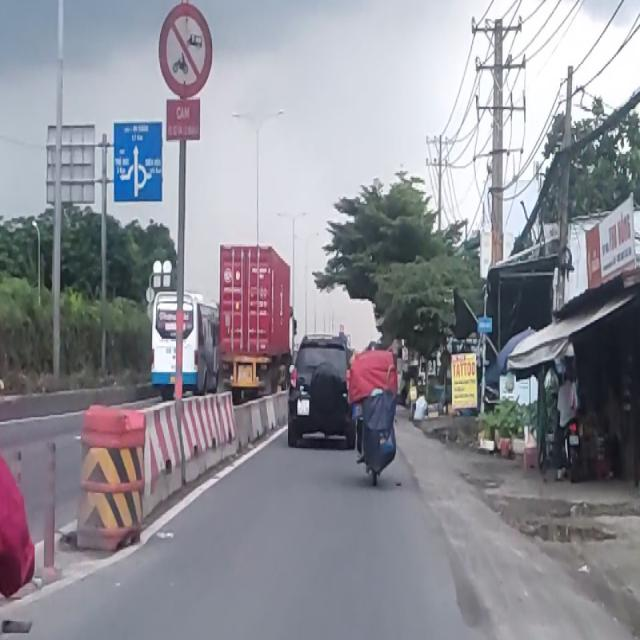Bus: (151, 291, 218, 402)
Car: (288, 336, 354, 449)
Motorcycle: (568, 418, 583, 482)
Motorcyclist: (347, 342, 398, 486)
Other vehicle: (218, 245, 292, 404)
Pedestrian: (556, 370, 579, 474), (413, 388, 428, 424)
Sign: (158, 3, 213, 97), (114, 122, 162, 203), (47, 125, 95, 204), (166, 99, 201, 142), (476, 317, 493, 333), (152, 260, 161, 274), (162, 260, 171, 274), (153, 275, 161, 288), (163, 275, 171, 288)
